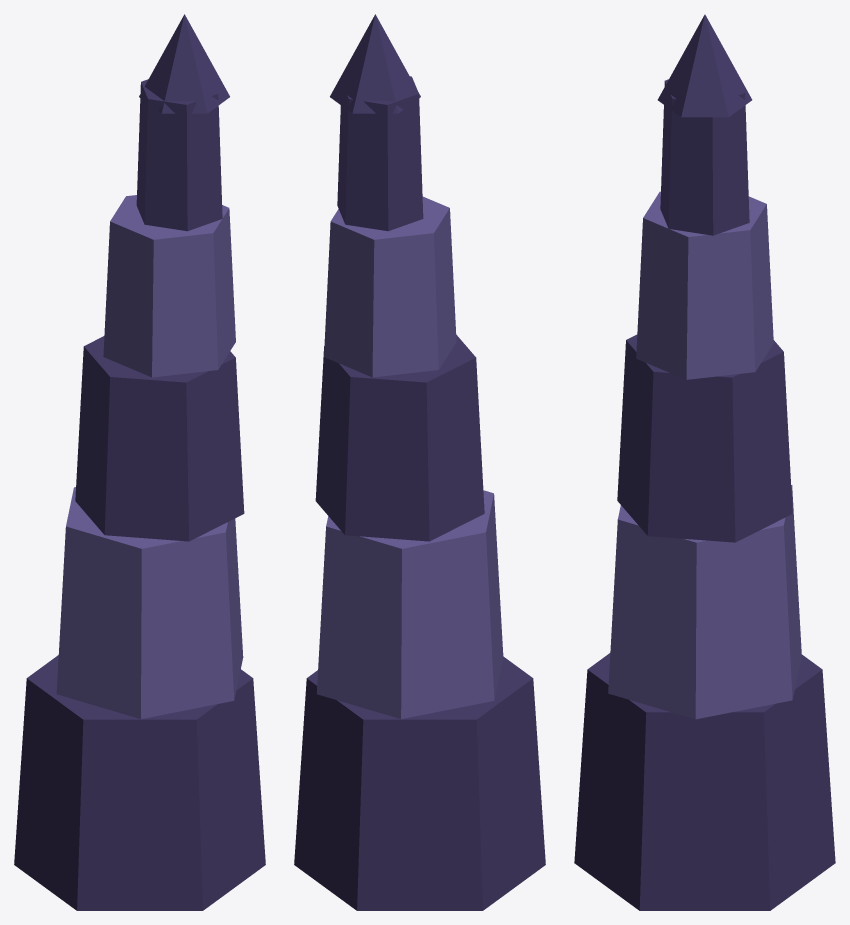
File: Alien_Rock_Spire.glb
3 views of the same model, side by side, from view 1: azimuth 30°, elevation 25°; view 2: azimuth 150°, elevation 25°; view 3: azimuth 270°, elevation 25° (orthographic). The views are drawn at different scales.
Visible parts, largest first — view 1: Alien_Rock_Spire; view 2: Alien_Rock_Spire; view 3: Alien_Rock_Spire.
Part boxes in pixels (<box>): Alien_Rock_Spire: <box>14,14,265,910</box>; Alien_Rock_Spire: <box>294,14,545,910</box>; Alien_Rock_Spire: <box>574,14,835,910</box>.
Bounding box in the file's own units: 1.95 × 8.1 × 2.2.
1 material, 1 textured.
